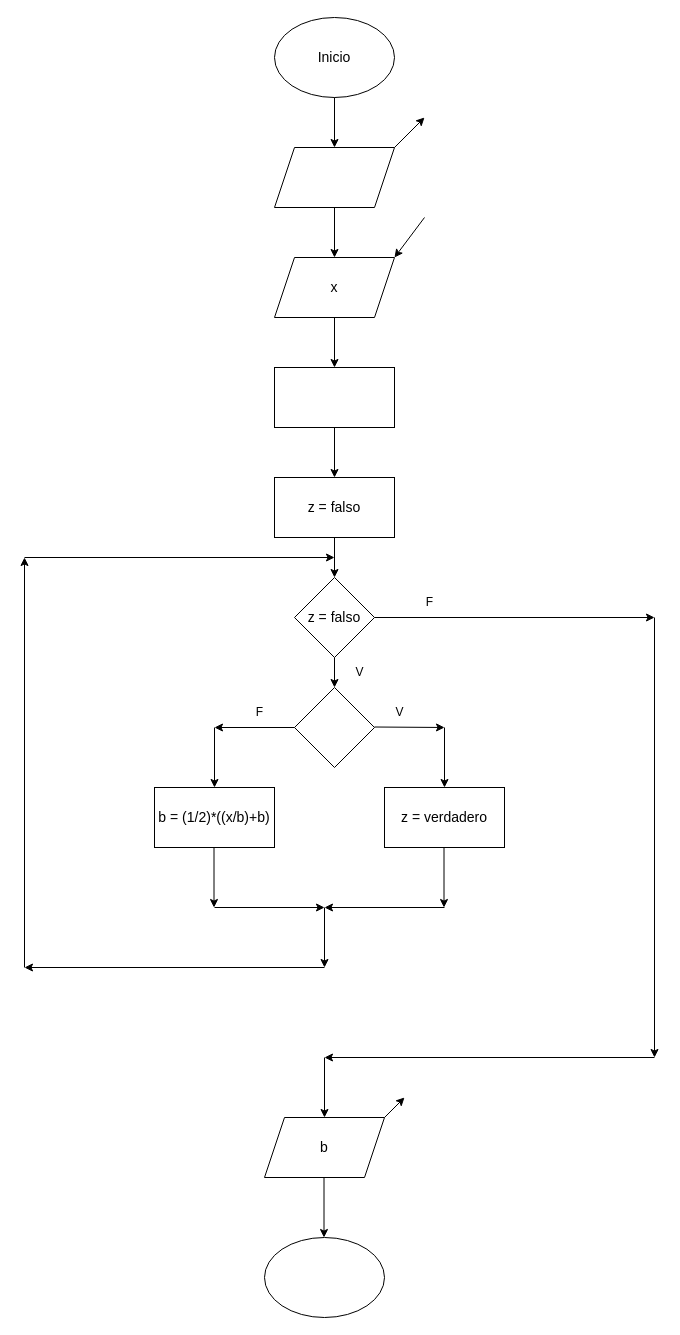
This 680x1335 diagram has some shape labels left out. The shapes that lost their labels are listed below. From the top down, each one's centre as x and y in pixels, then its label:
(x=334, y=177): "Ingrese el número"
(x=334, y=397): b = x
(x=334, y=727): b = x/b
(x=324, y=1277): Fin
